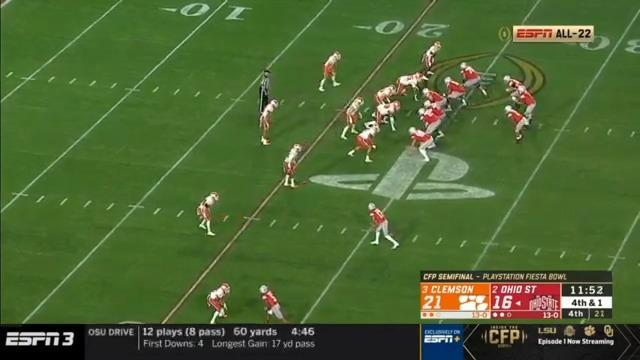defense: (346, 120, 380, 163), (197, 190, 220, 239), (318, 48, 343, 93), (363, 101, 398, 133), (341, 95, 364, 142), (206, 282, 232, 322), (260, 99, 281, 148), (390, 72, 425, 101), (283, 143, 303, 191), (420, 40, 442, 78), (371, 83, 394, 108)
oline: (459, 62, 488, 97), (418, 107, 443, 147), (442, 76, 467, 113), (422, 100, 446, 122), (422, 88, 447, 107)
qb: (516, 86, 537, 131)
ref: (261, 66, 274, 110)
skill: (364, 200, 399, 250), (259, 285, 291, 324), (407, 126, 435, 164), (502, 104, 525, 144), (502, 75, 526, 107)
